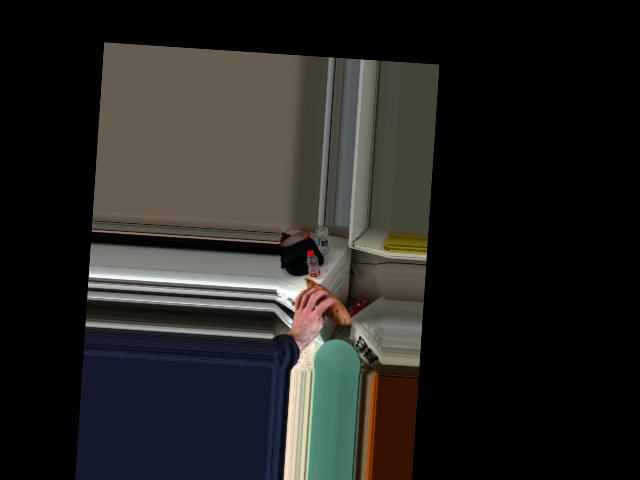sweet_potato: (298, 279, 350, 324)
